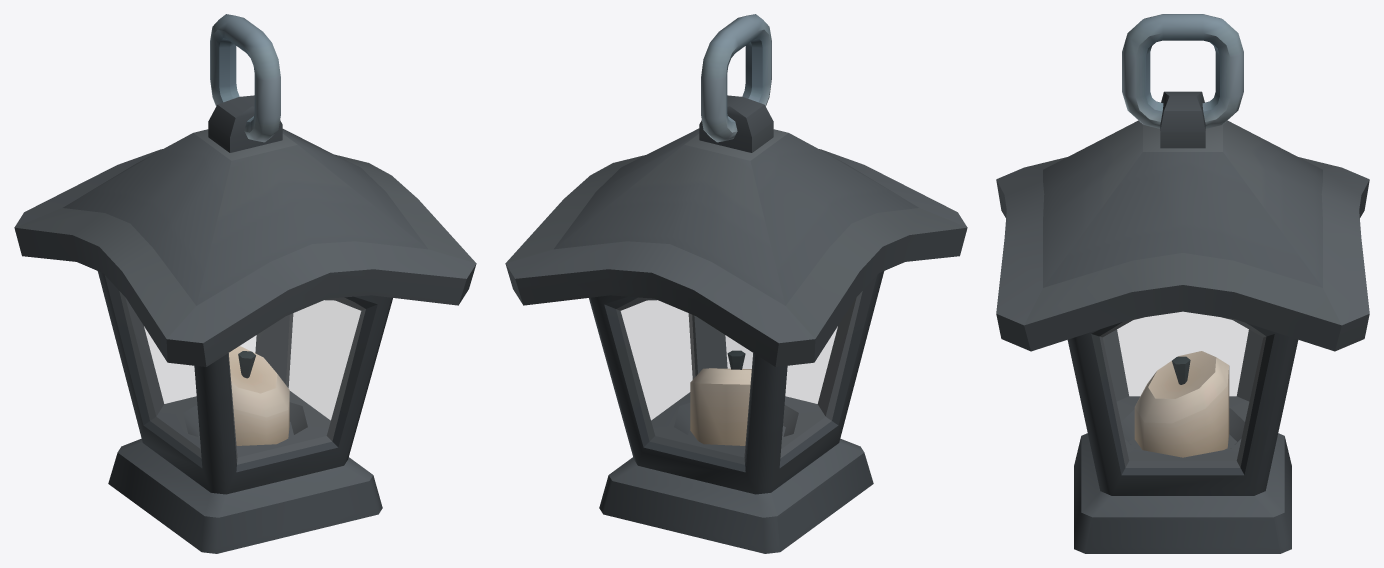
File: lantern.gltf
3 views of the same model, side by side, from view 1: azimuth 30°, elevation 25°; view 2: azimuth 150°, elevation 25°; view 3: azimuth 270°, elevation 25° (orthographic). The views are drawn at different scales.
Parts seen in each view (by area): view 1: lantern, lantern_handle; view 2: lantern, lantern_handle; view 3: lantern, lantern_handle.
Part boxes in pixels (x1,y1,x2,y2): lantern: (14, 95, 476, 553); lantern_handle: (210, 14, 280, 142); lantern: (505, 95, 967, 553); lantern_handle: (701, 14, 771, 142); lantern: (996, 91, 1369, 553); lantern_handle: (1122, 14, 1243, 128).
Size of the model in its own units: 0.7528 by 1.11 by 0.7528.
Materials: 2 (1 with a texture image).
